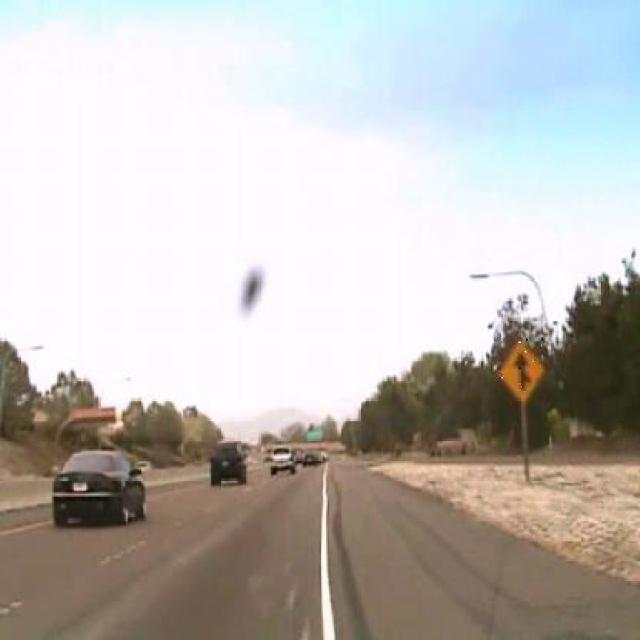merge: (497, 339, 544, 406)
